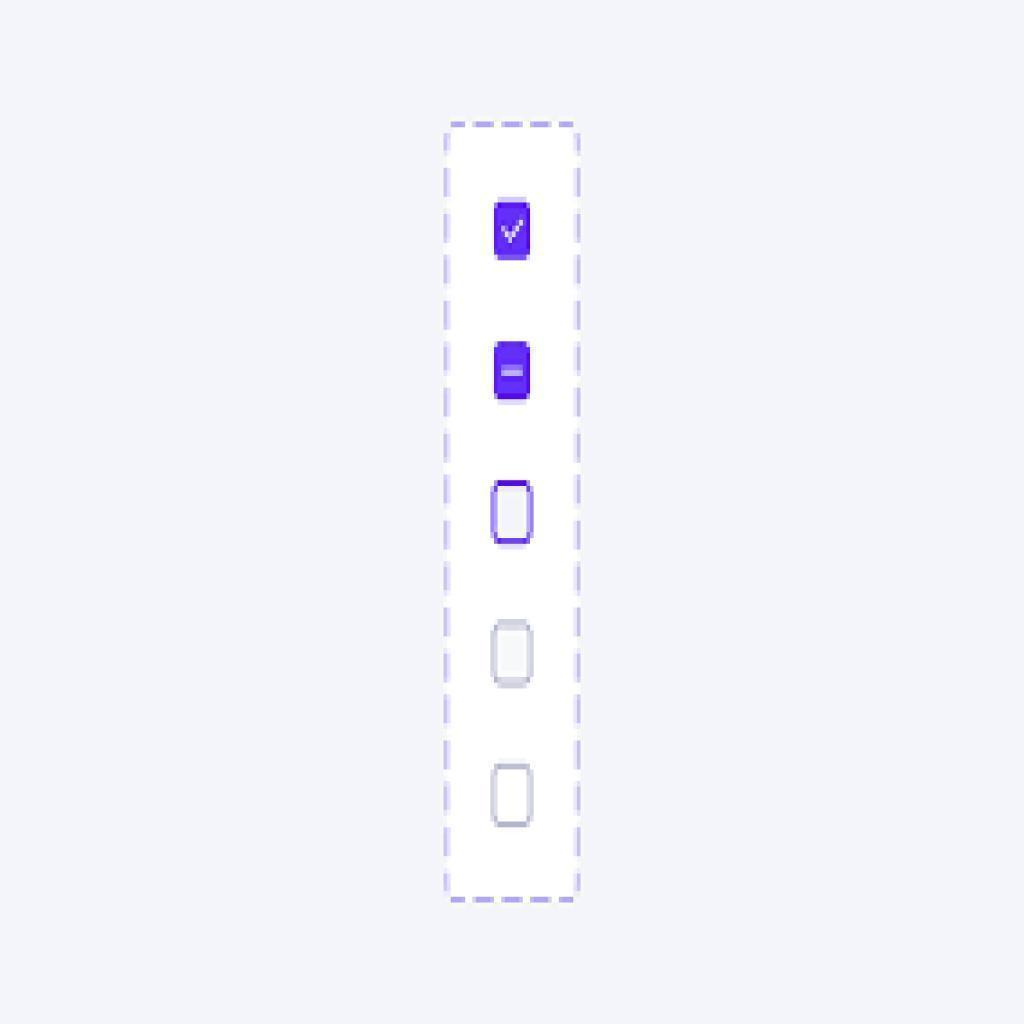checkbox: (491, 480, 533, 544), (493, 764, 534, 824), (494, 624, 533, 684), (493, 342, 531, 398), (495, 202, 529, 259)
